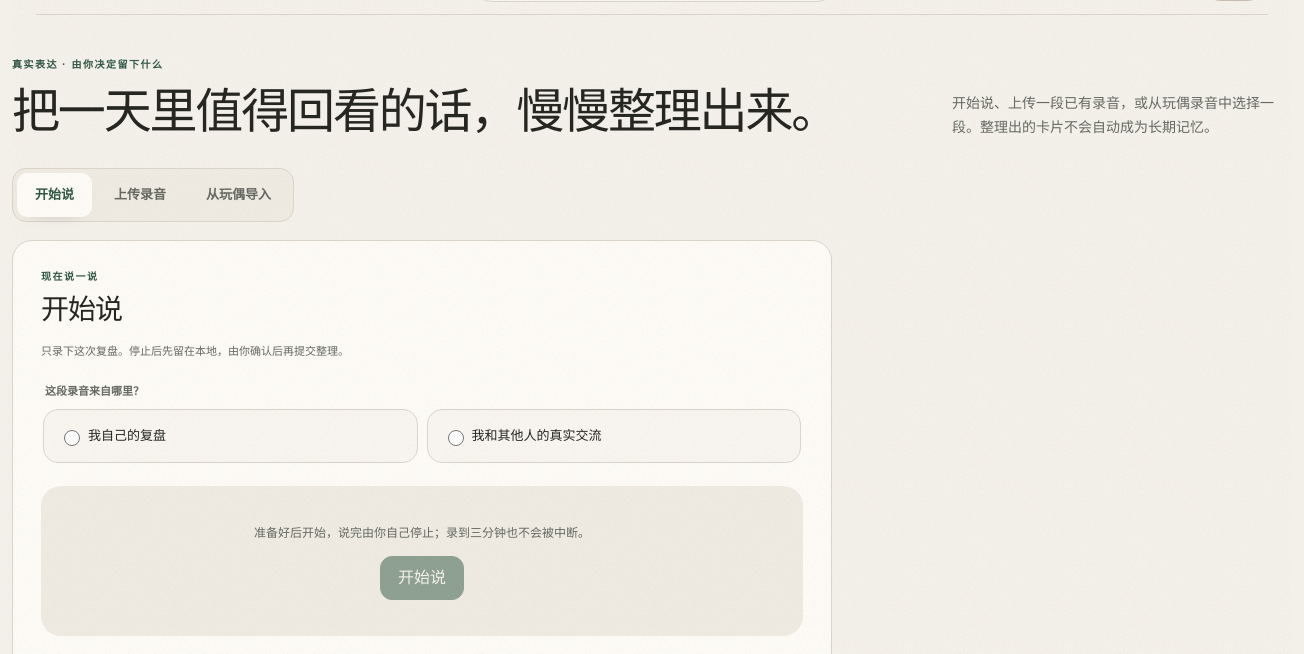
it: DailyReflectionShellContent › keeps active recording visible and disables other capture modes until it ends
Click the radio button labelled "我自己的复盘". click: (72, 438)
box: [64,430,80,446]
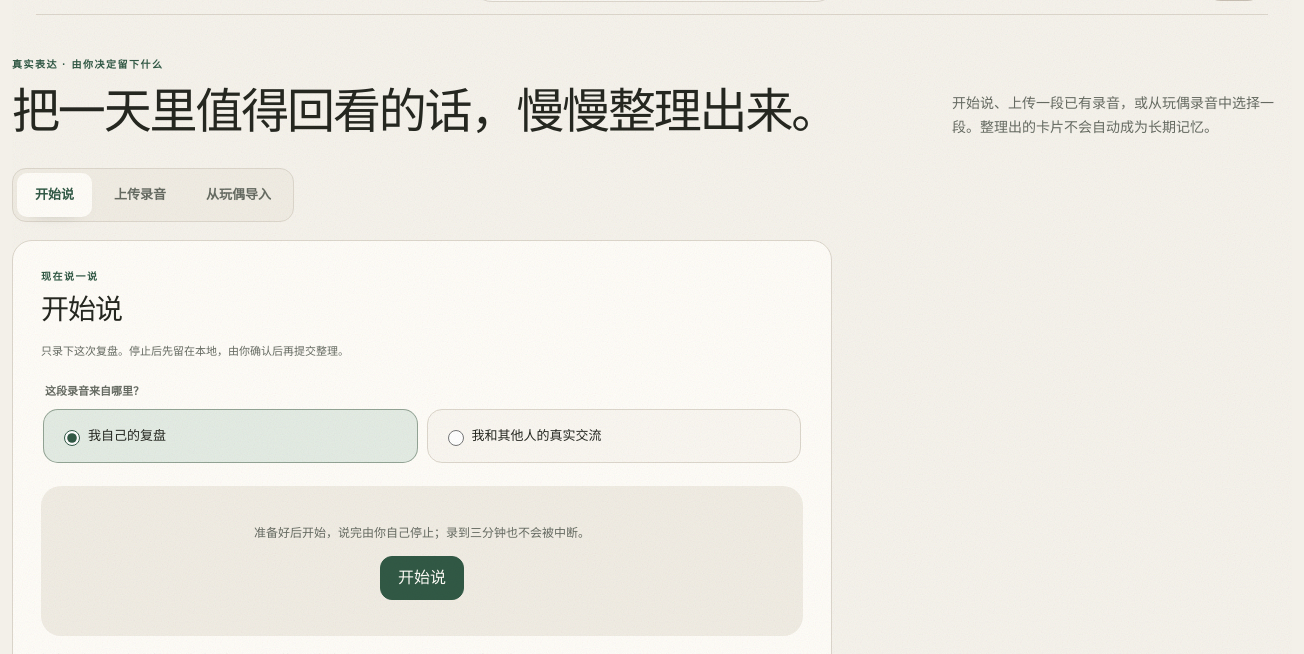
Click the button "开始说". click: (422, 578)
box: [380,556,464,600]
(page scrolled)
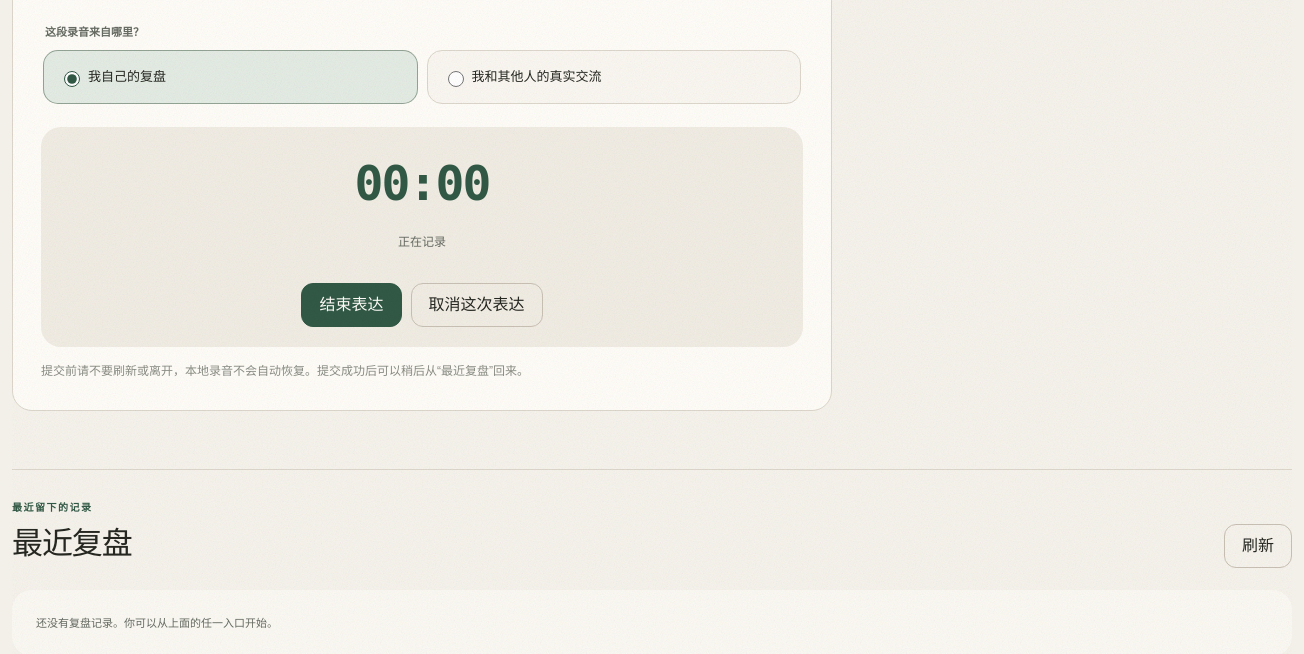
expect the button "结束表达" is shown: met, box [302,283,402,327]
Click the button "取消这次表达". click: (476, 305)
box: [410,283,542,327]
(page scrolled)
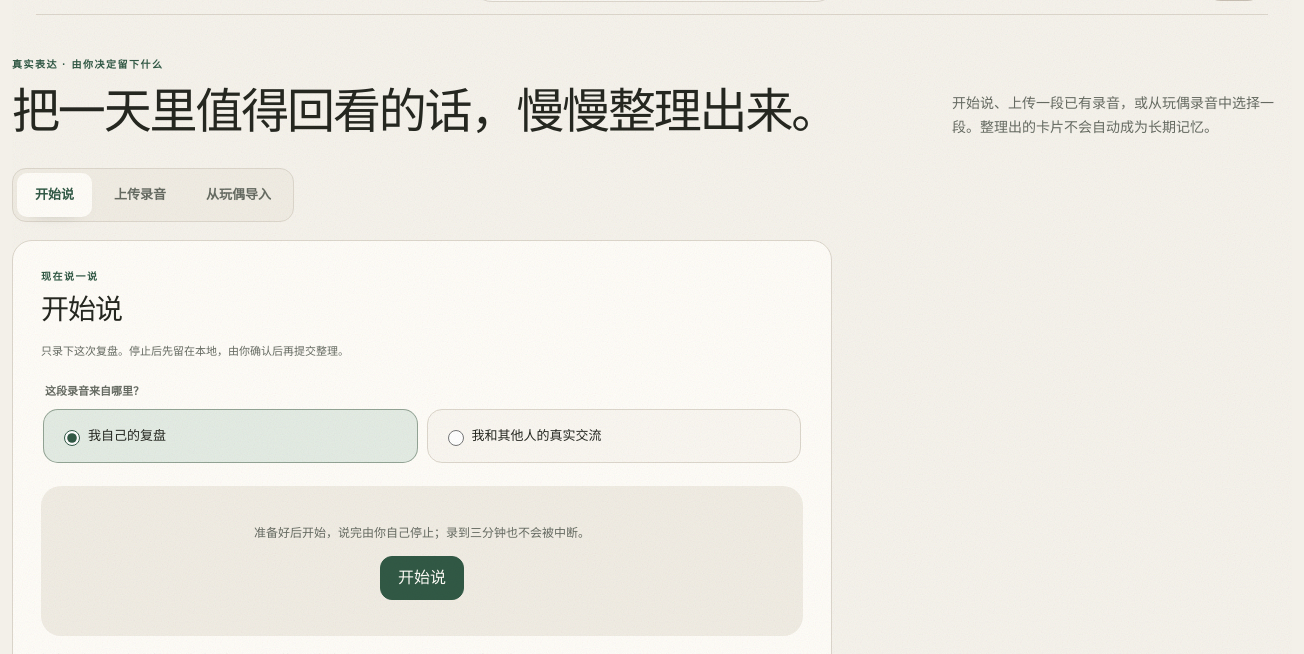
expect the tab "上传录音" is enabled: met, box [96,173,184,217]
expect the tab "从玩偶导入" is enabled: met, box [188,173,289,217]
